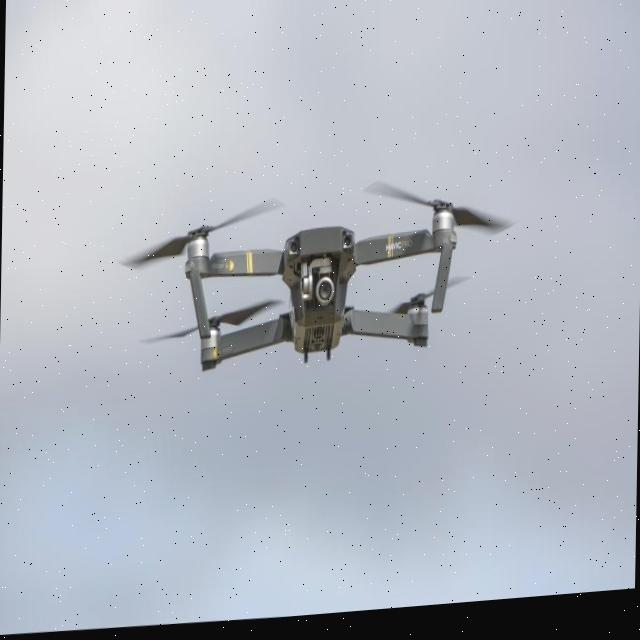drone: (134, 167, 504, 399)
